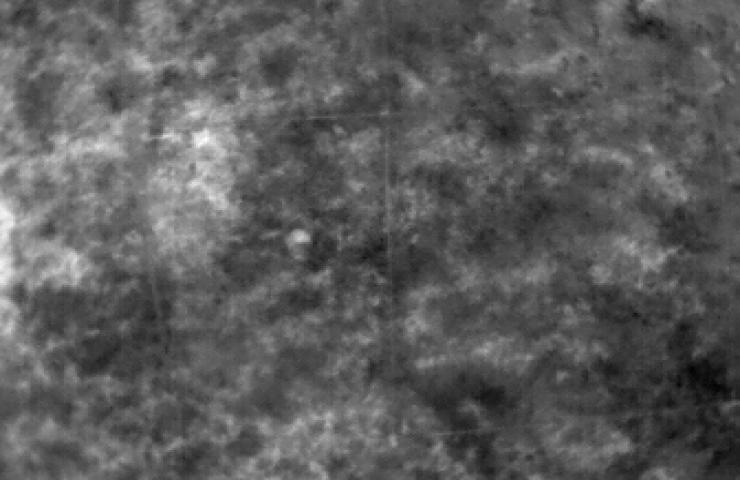landmines: (290, 225, 314, 250)
